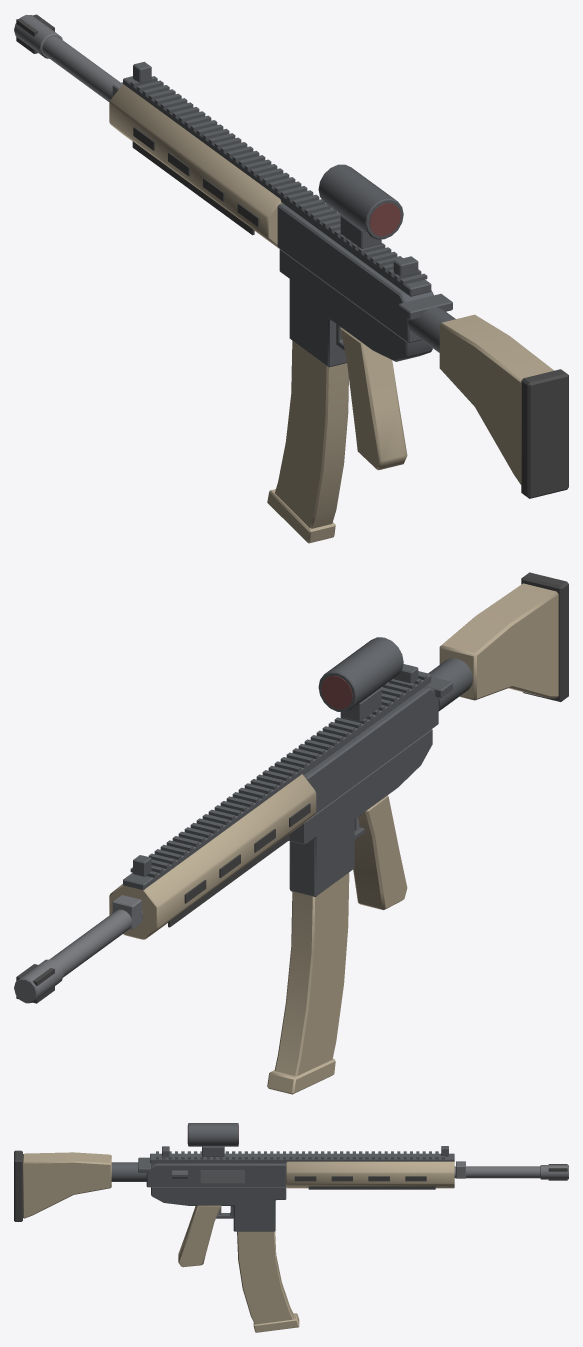
Rendered from rifle.glb.
3 renders of one model, top to bottom at view 1: azimuth 30°, elevation 25°; view 2: azimuth 150°, elevation 25°; view 3: azimuth 270°, elevation 25°, orthographic. The views are drawn at different scales.
Visible parts, largest first — view 1: rifle; view 2: rifle; view 3: rifle.
Part boxes in pixels (left/top/right/bottom): rifle: left=14, top=14, right=568, bottom=543; rifle: left=14, top=572, right=568, bottom=1094; rifle: left=14, top=1123, right=568, bottom=1332.
Size of the model in its own units: 0.0506 by 0.3573 by 0.874.
